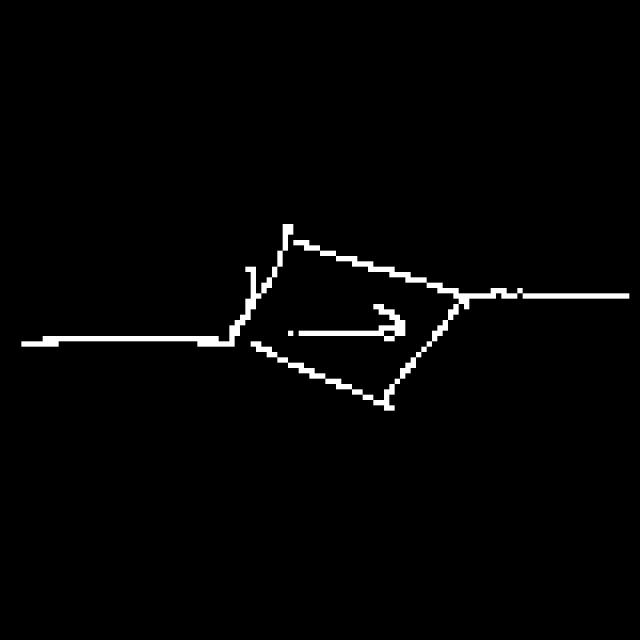dependant_current: (223, 184, 475, 434)
